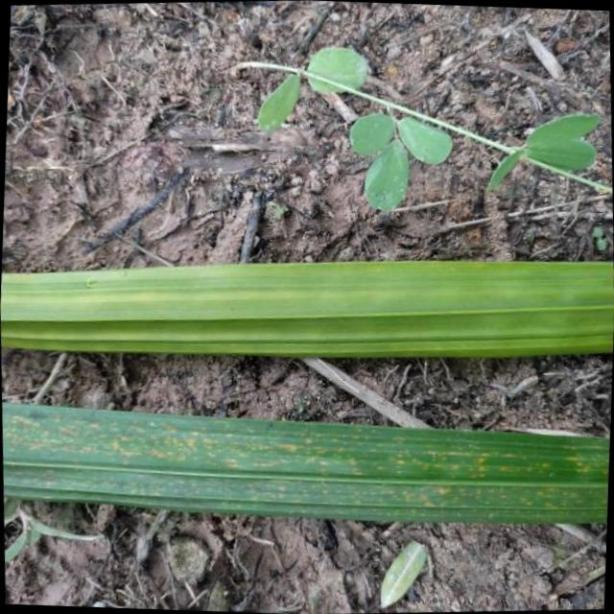nitrogen: (3, 401, 614, 518), (0, 257, 614, 355)
